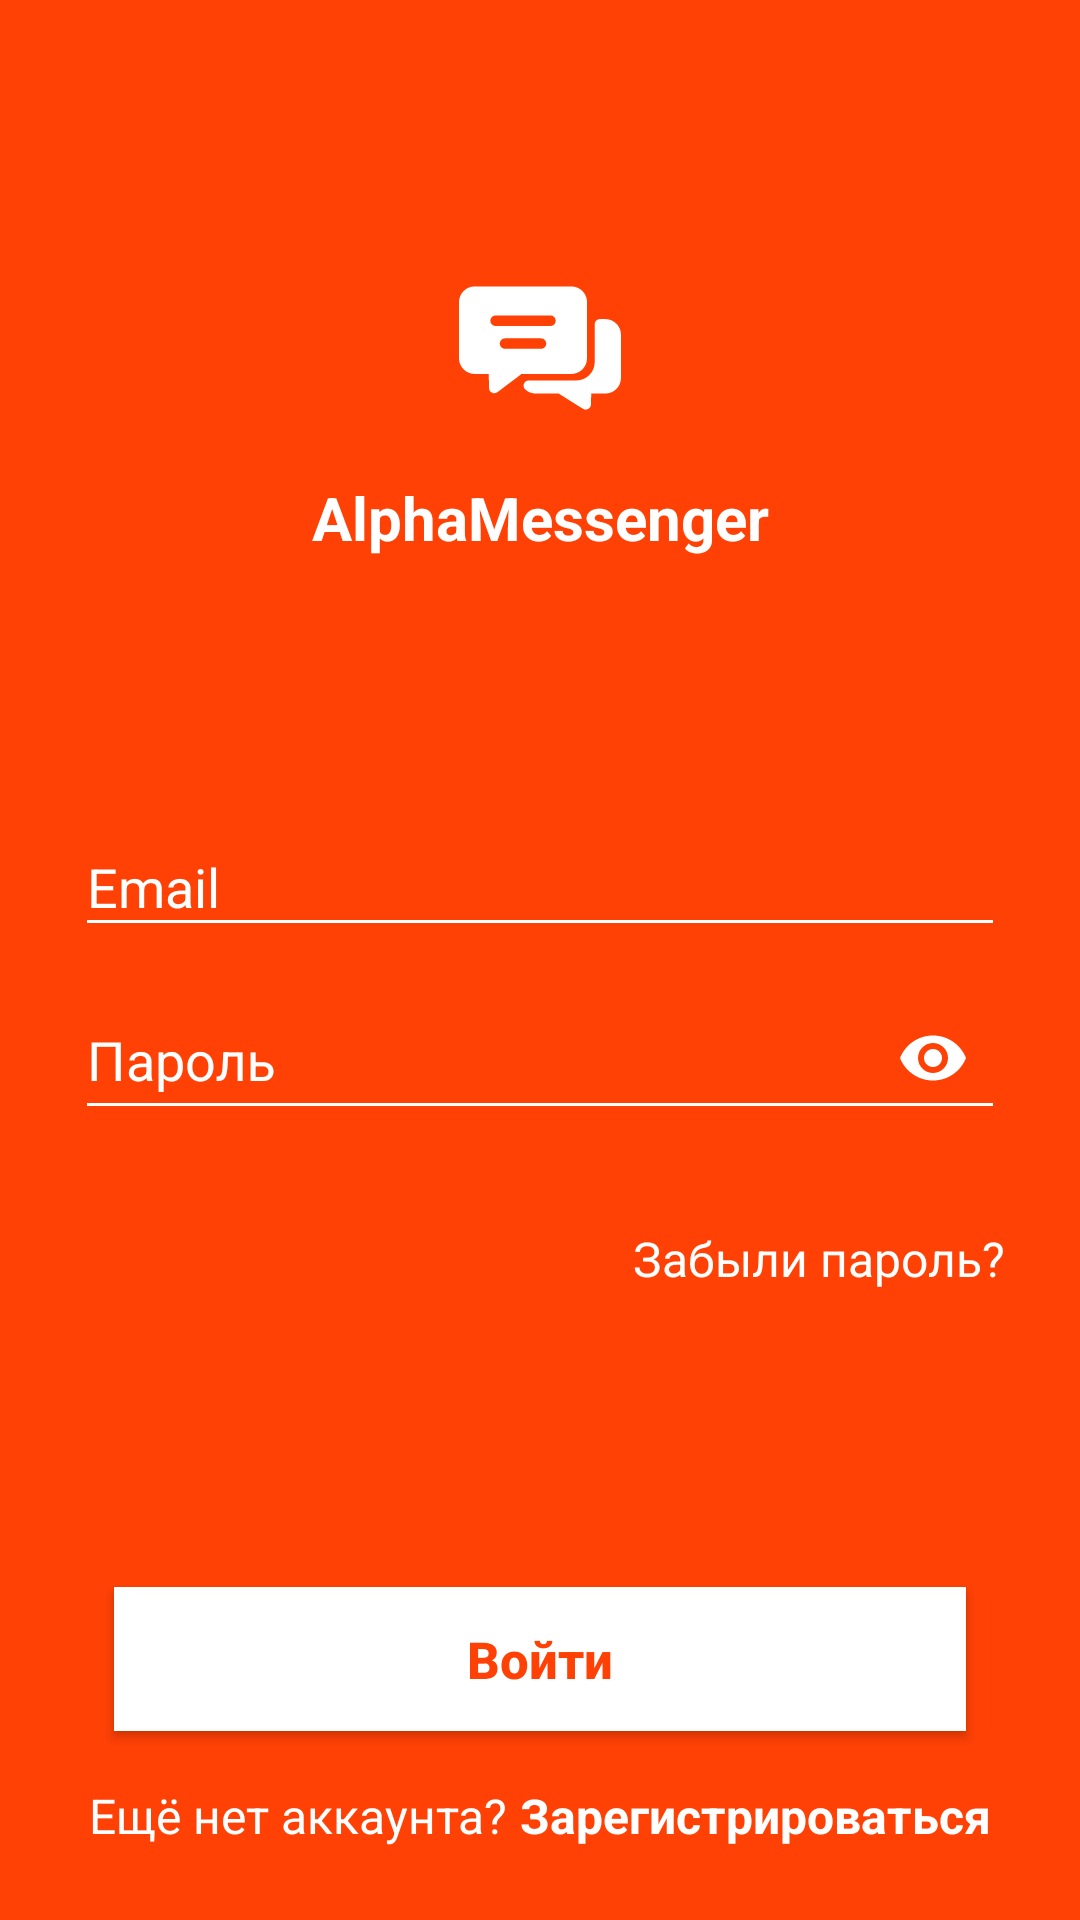

Screen size 1080*1920. Icon name, then its center in pixels as (x=x, y=y):
chat: (x=540, y=348)
